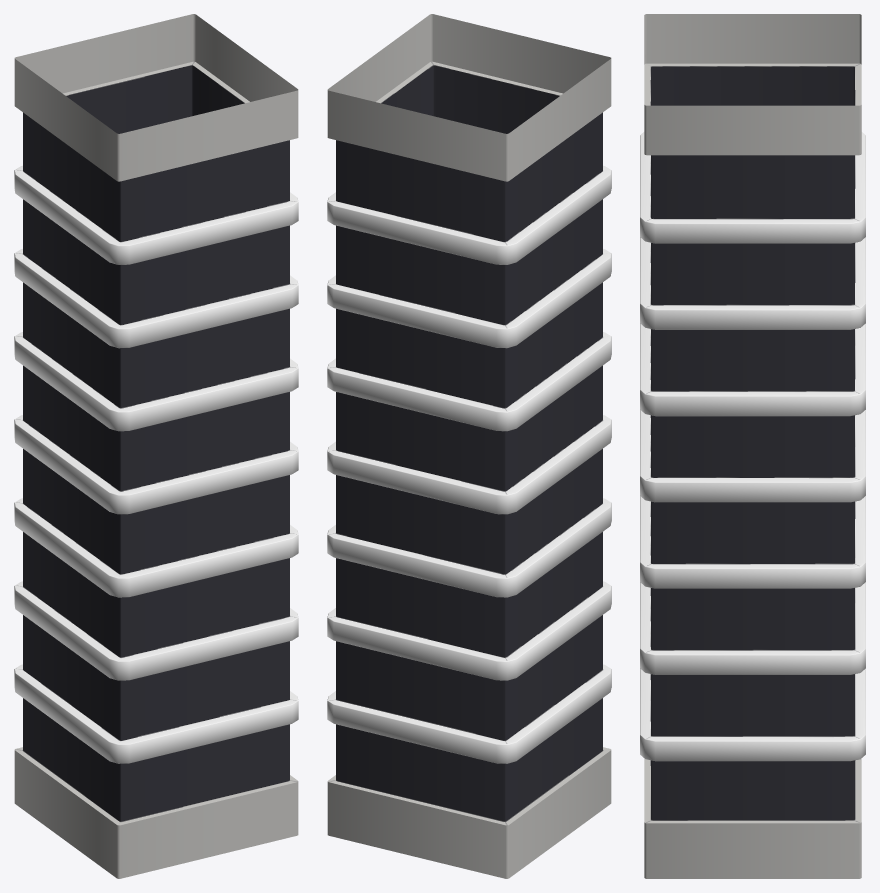
The model's file is Column07.FBX.
3 renders of one model, left to right at view 1: azimuth 30°, elevation 25°; view 2: azimuth 150°, elevation 25°; view 3: azimuth 270°, elevation 25°, orthographic. The views are drawn at different scales.
Visible parts, largest first — view 1: Column07; view 2: Column07; view 3: Column07.
Boxes of the visible parts, left/top/right/bottom form: Column07: left=14, top=14, right=298, bottom=878; Column07: left=327, top=14, right=611, bottom=878; Column07: left=640, top=14, right=865, bottom=878.
Bounding box in the file's own units: 92.63 × 350 × 92.63.
